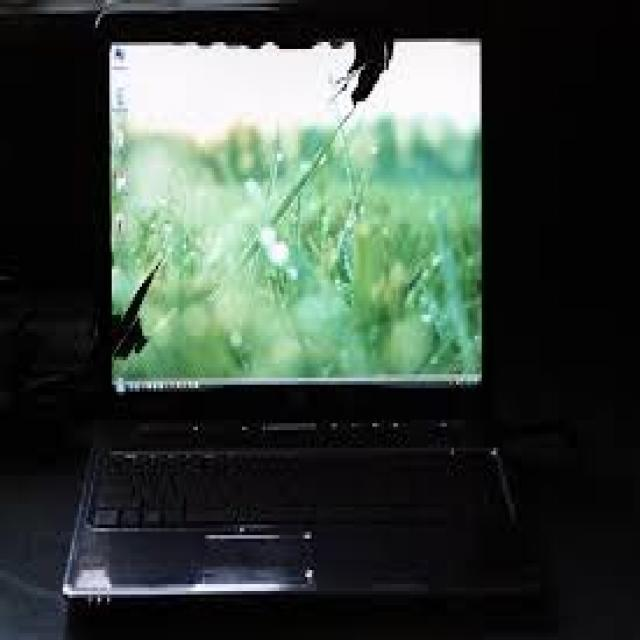Screen cracks: (107, 42, 412, 392)
